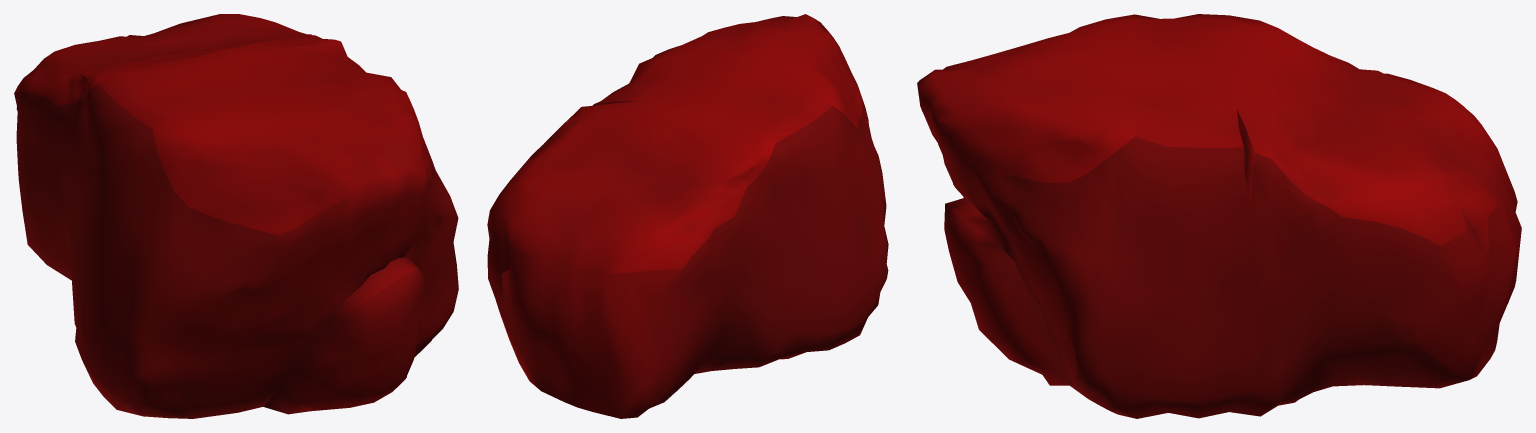
File: geology-rocks-rockhuge_v8.fbx
The picture shows the model from 3 angles, left to right: view 1: azimuth 30°, elevation 25°; view 2: azimuth 150°, elevation 25°; view 3: azimuth 270°, elevation 25°; orthographic projection. The views are drawn at different scales.
Parts seen in each view (by area): view 1: RockHuge_v8; view 2: RockHuge_v8; view 3: RockHuge_v8.
Part boxes in pixels (x1,y1,x2,y2): RockHuge_v8: (14,14,458,418); RockHuge_v8: (487,14,888,418); RockHuge_v8: (917,14,1521,418).
Size of the model in its own units: 22.55 by 19.82 by 36.43.
